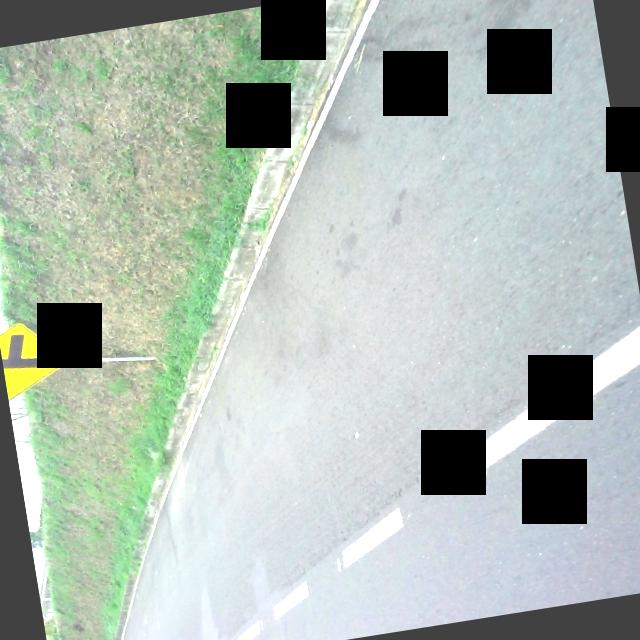DITCH: (8, 0, 640, 640), (29, 0, 640, 640)
